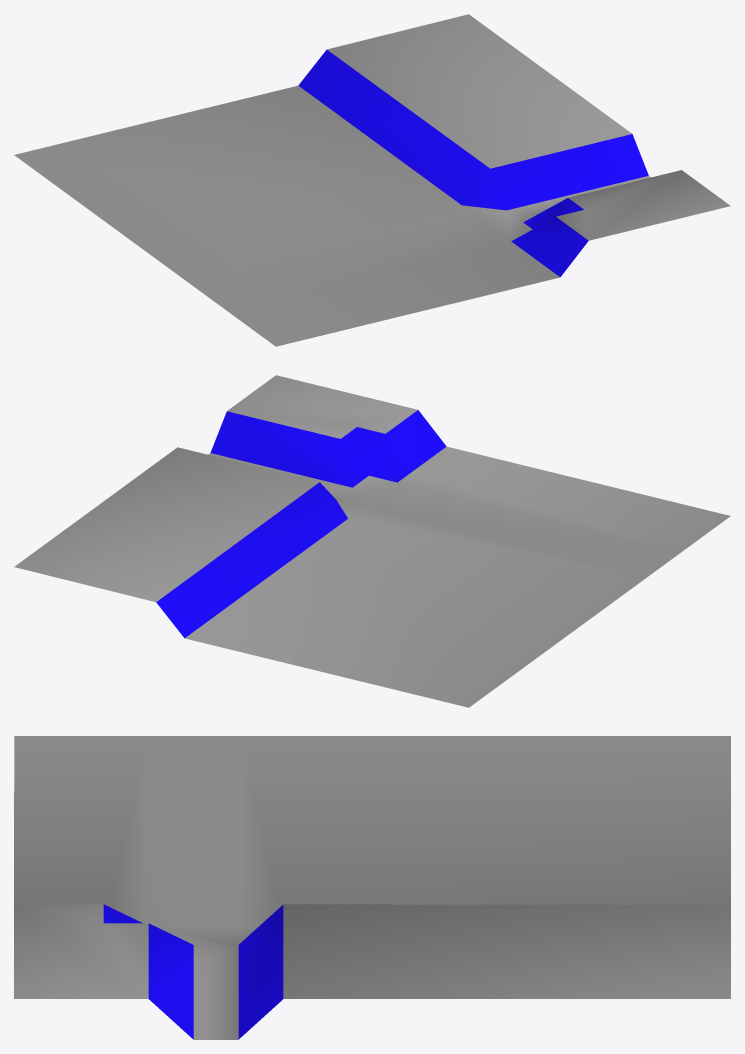
File: Terrian.FBX
3 views of the same model, one above another, from view 1: azimuth 30°, elevation 25°; view 2: azimuth 150°, elevation 25°; view 3: azimuth 270°, elevation 25° (orthographic). The views are drawn at different scales.
Parts seen in each view (by area): view 1: default; view 2: default; view 3: default.
Part boxes in pixels (bbox=[...]): default: bbox=[14, 14, 730, 346]; default: bbox=[14, 375, 730, 707]; default: bbox=[14, 736, 730, 1039].
Size of the model in its own units: 64 by 4 by 63.86.
